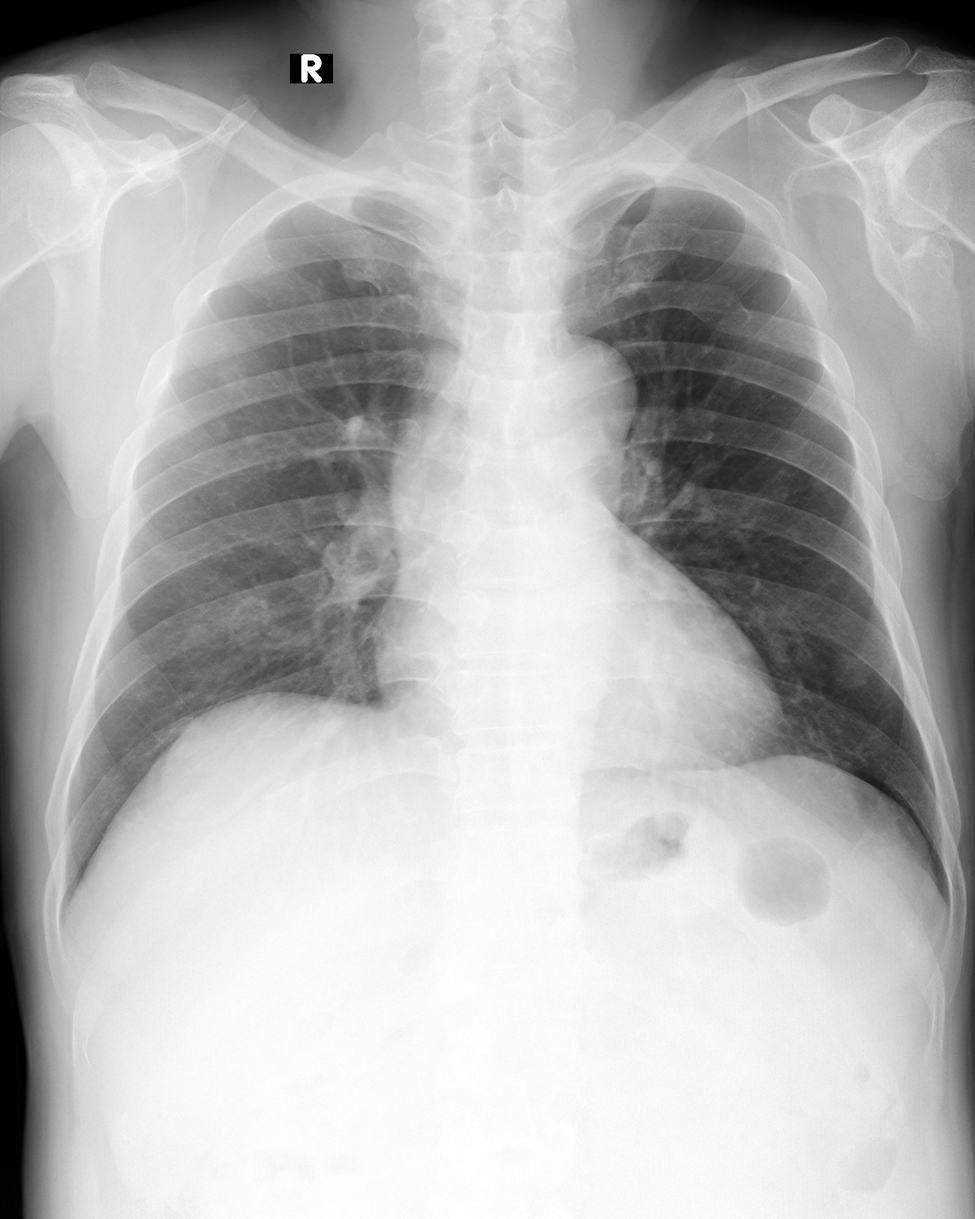Aortic enlargement: (391, 333, 634, 526)
